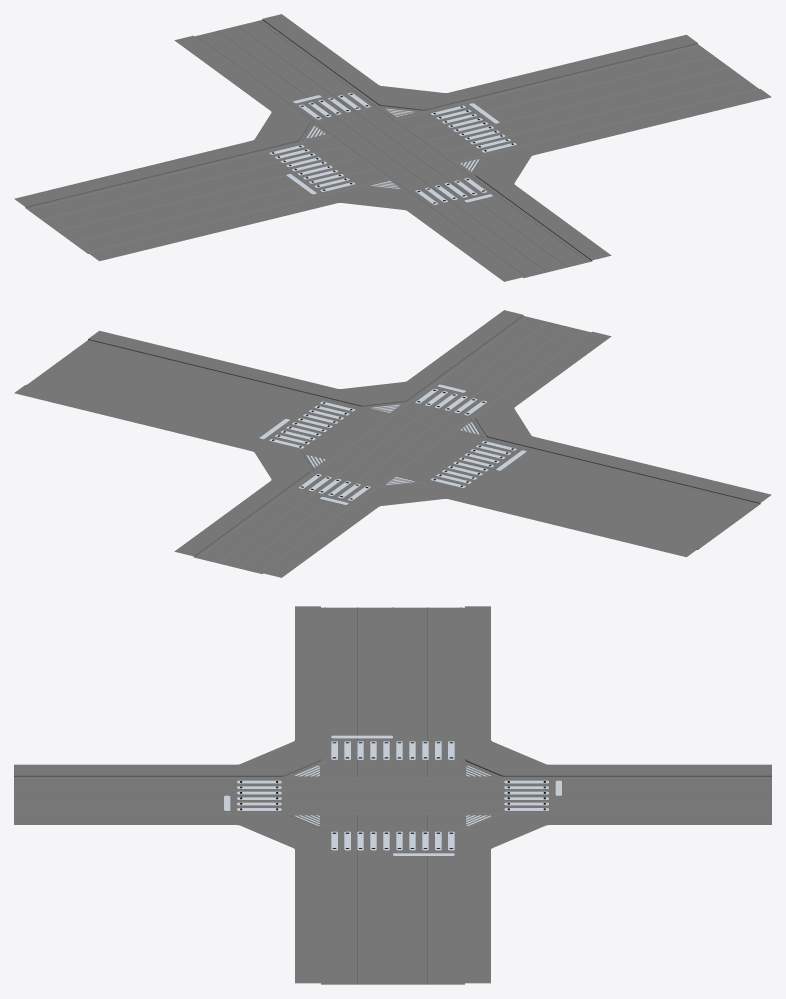
File: Ciudad_Tramo_Cruce.FBX
3 renders of one model, top to bottom at view 1: azimuth 30°, elevation 25°; view 2: azimuth 150°, elevation 25°; view 3: azimuth 270°, elevation 25°, orthographic. The views are drawn at different scales.
Visible parts, largest first — view 1: Ciudad_Tramo_Cruce; view 2: Ciudad_Tramo_Cruce; view 3: Ciudad_Tramo_Cruce.
Part boxes in pixels (x1,y1,x2,y2): Ciudad_Tramo_Cruce: [14, 14, 771, 281]; Ciudad_Tramo_Cruce: [14, 310, 771, 577]; Ciudad_Tramo_Cruce: [14, 606, 771, 984].
Size of the model in its own units: 10000 by 8500 by 15.
